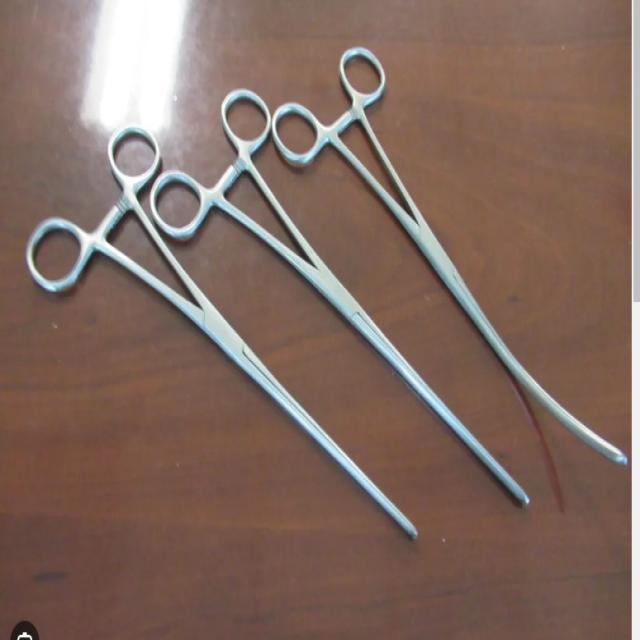Doyel Instestinal Forceps: (21, 124, 422, 550), (153, 90, 532, 520), (269, 38, 629, 469)
